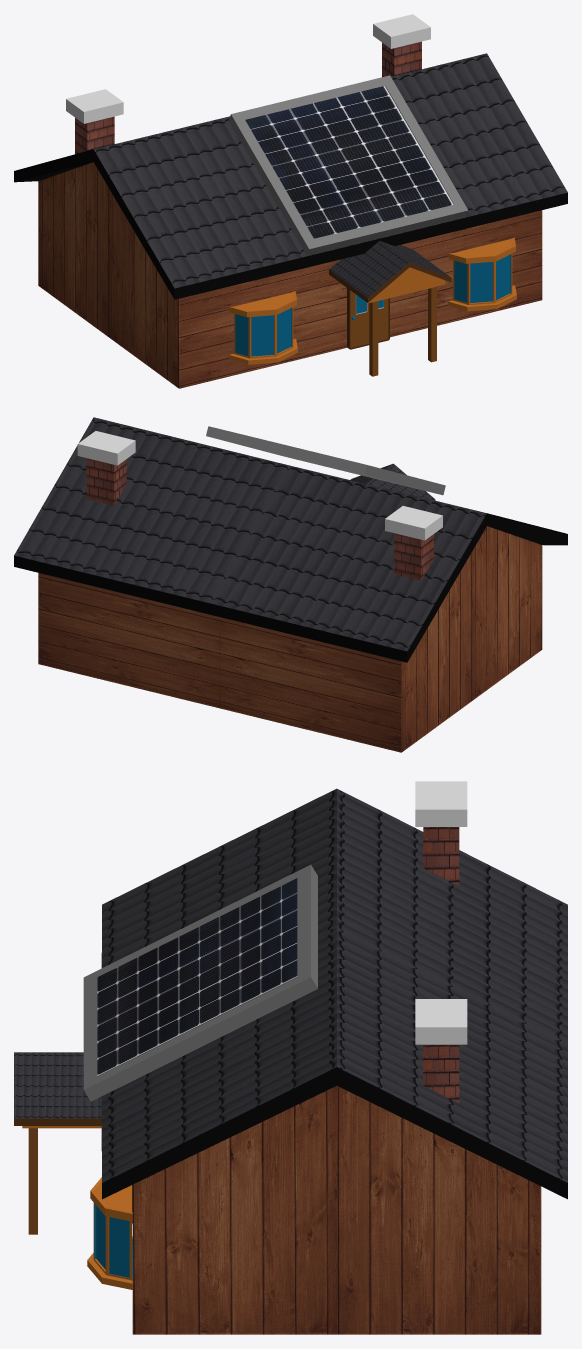
Rendered from Village_house_6.fbx.
The picture shows the model from 3 angles, top to bottom: view 1: azimuth 30°, elevation 25°; view 2: azimuth 150°, elevation 25°; view 3: azimuth 270°, elevation 25°; orthographic projection. The views are drawn at different scales.
Parts seen in each view (by area): view 1: Cube.010; view 2: Cube.010; view 3: Cube.010.
Boxes of the visible parts, bbox=[...] form: Cube.010: bbox=[14, 14, 567, 388]; Cube.010: bbox=[14, 417, 567, 752]; Cube.010: bbox=[14, 781, 567, 1334].
Bounding box in the file's own units: 2222 × 1107 × 1868.
